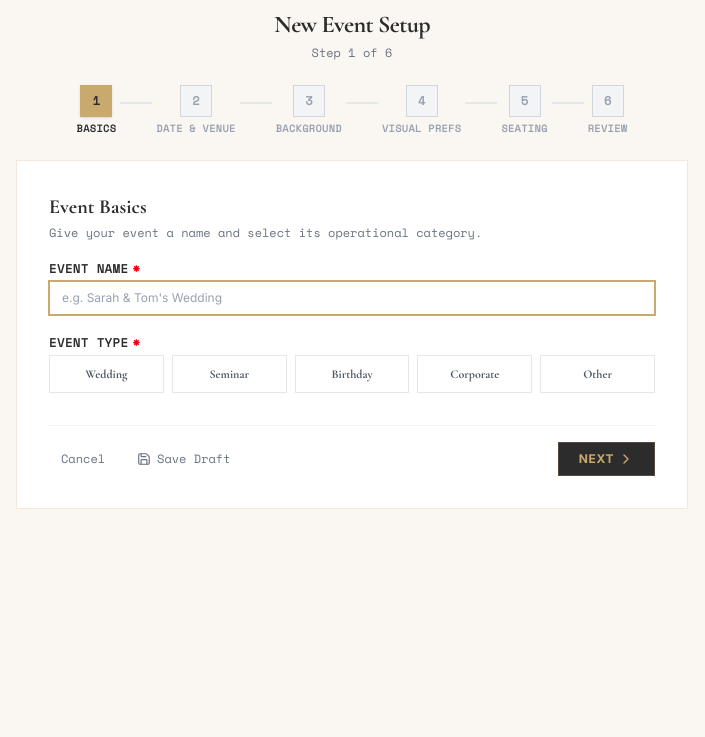
ProjectSetupWizard › blocks Step 3 progression if guest count is negative
Type "My Test Event" into the field labelled "Event Name*" at [352, 298], box [49,281,655,315]
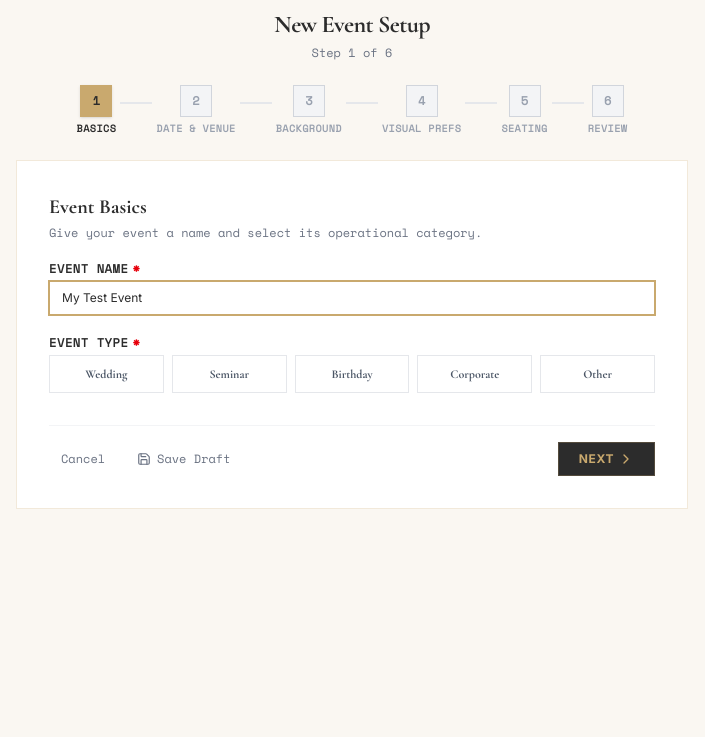
Click the radio button labelled "Wedding" at [106, 374], box [49,355,164,393]
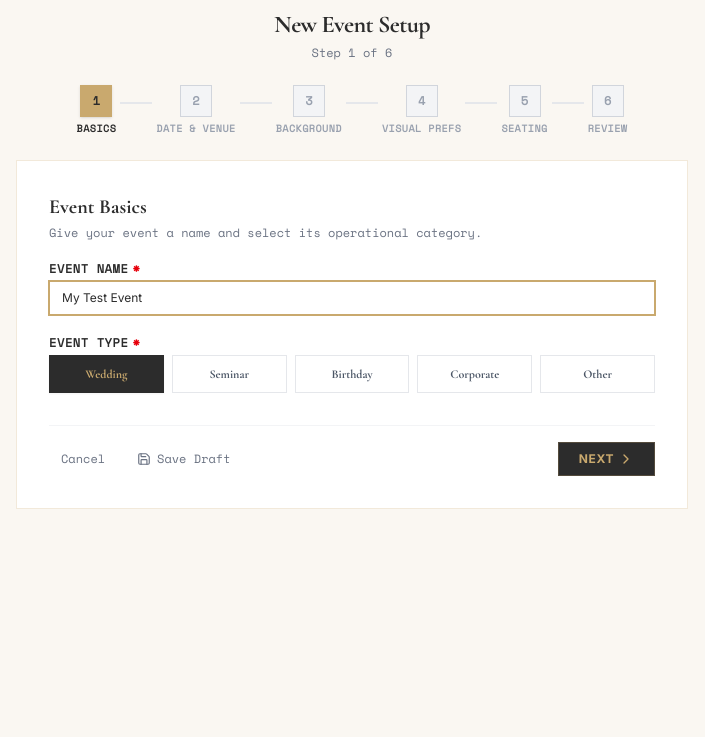
Click the button "Next" at [606, 459], box [558,442,655,476]
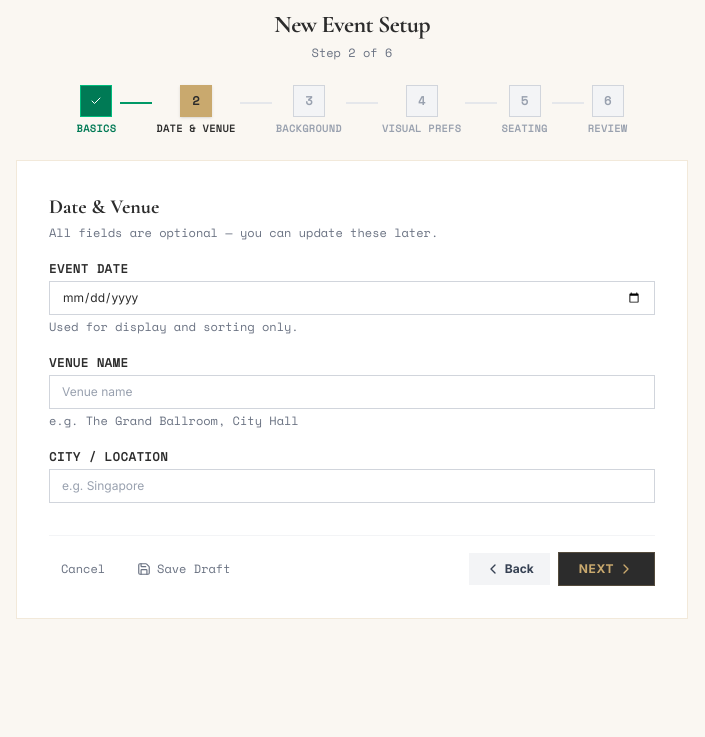
Click the button "Next" at [606, 569], box [558,552,655,586]
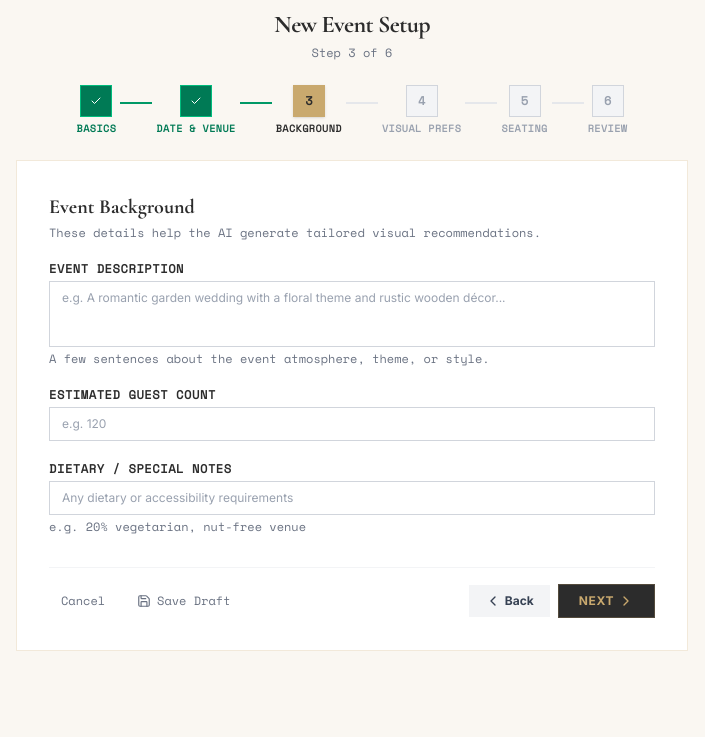
Expected: the heading "Event Background" is shown, [49,195,195,219]
Type "-5" into the number field labelled "Estimated Guest Count" at [352, 424], box [49,407,655,441]
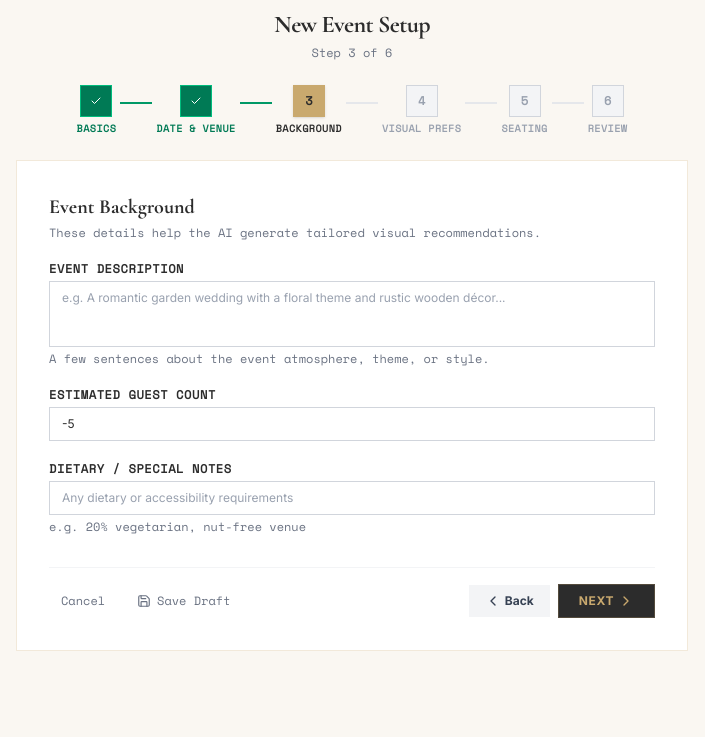
Click the button "Next" at [606, 601], box [558,584,655,618]
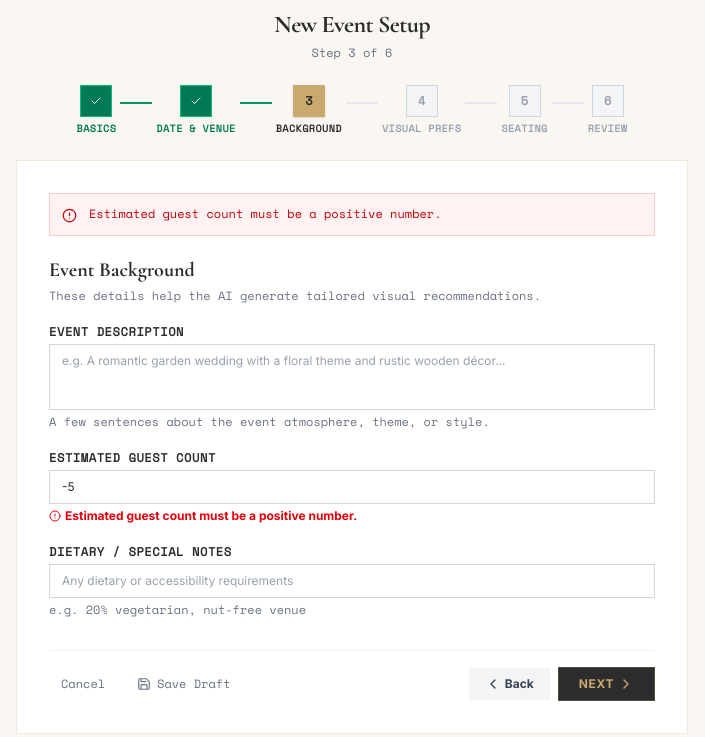
Expected: the list item "Estimated guest count must be a positive number." is shown, [89,206,442,222]
